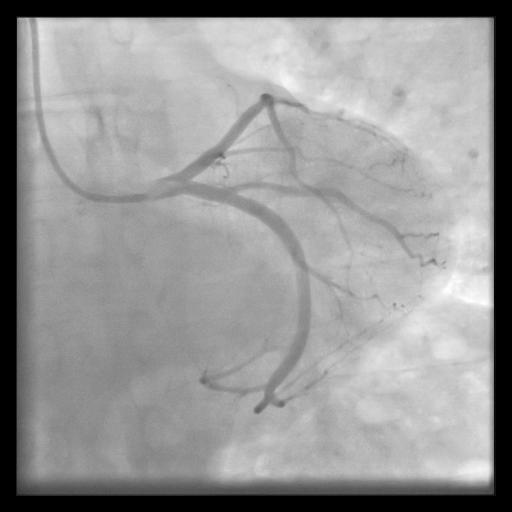Stenosis: (240, 177, 290, 196)
